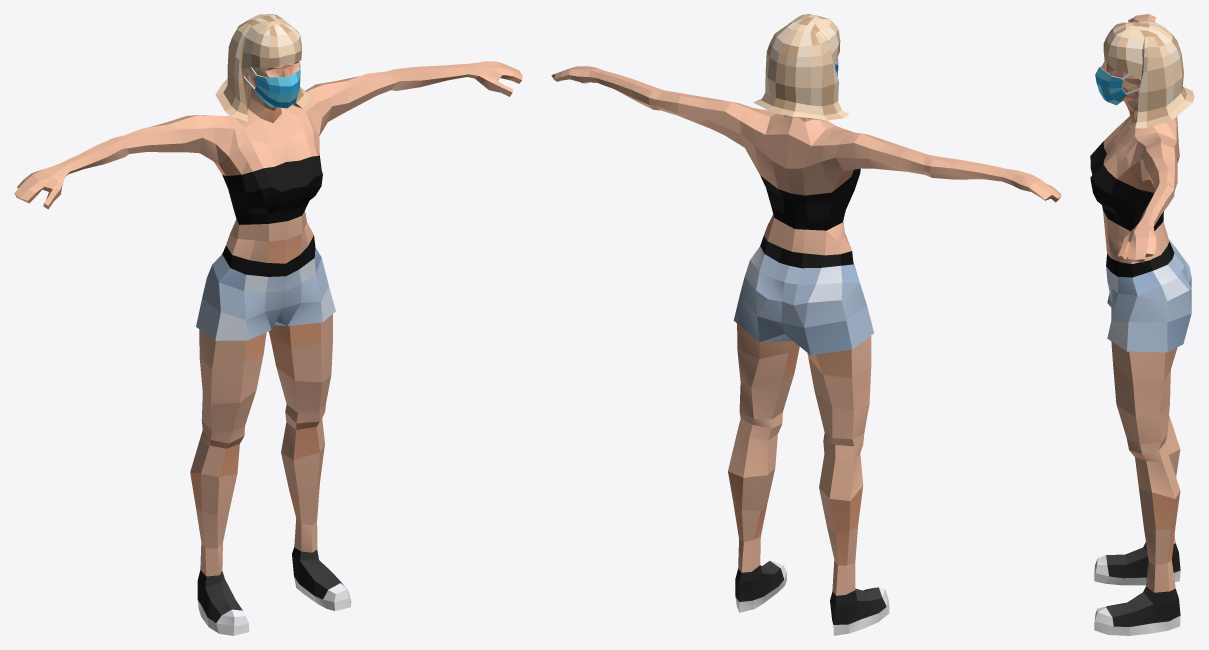
Rendered from casual_Female_K-model.obj.
3 renders of one model, left to right at view 1: azimuth 30°, elevation 25°; view 2: azimuth 150°, elevation 25°; view 3: azimuth 270°, elevation 25°, orthographic.
Visible parts, largest first — view 1: casual_Female_K, acc_hair_punkin, acc_mask_blue; view 2: casual_Female_K, acc_hair_punkin; view 3: casual_Female_K, acc_hair_punkin, acc_mask_blue.
Boxes of the visible parts, left/top/right/bottom form: casual_Female_K: left=14, top=61, right=522, bottom=635; acc_hair_punkin: left=215, top=14, right=311, bottom=121; acc_mask_blue: left=243, top=61, right=300, bottom=108; casual_Female_K: left=551, top=59, right=1061, bottom=635; acc_hair_punkin: left=753, top=14, right=849, bottom=120; casual_Female_K: left=1090, top=14, right=1191, bottom=635; acc_hair_punkin: left=1103, top=21, right=1194, bottom=128; acc_mask_blue: left=1095, top=64, right=1139, bottom=105.
Size of the model in its own units: 153 by 170 by 27.67.
